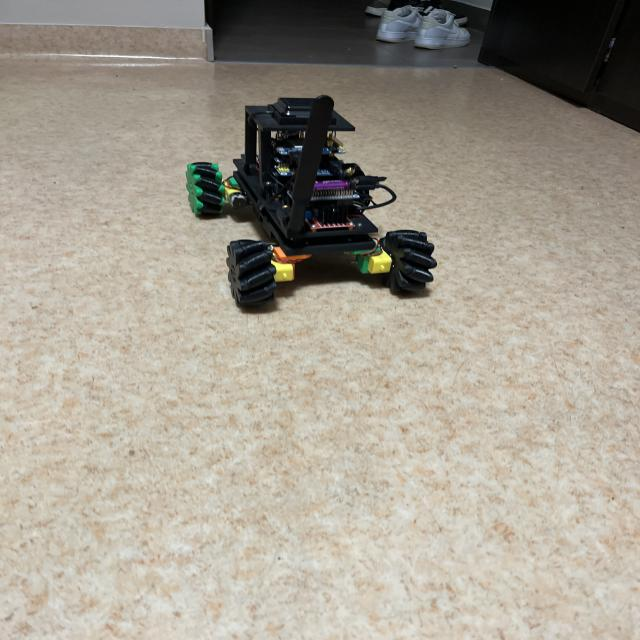robot: (186, 95, 437, 306)
